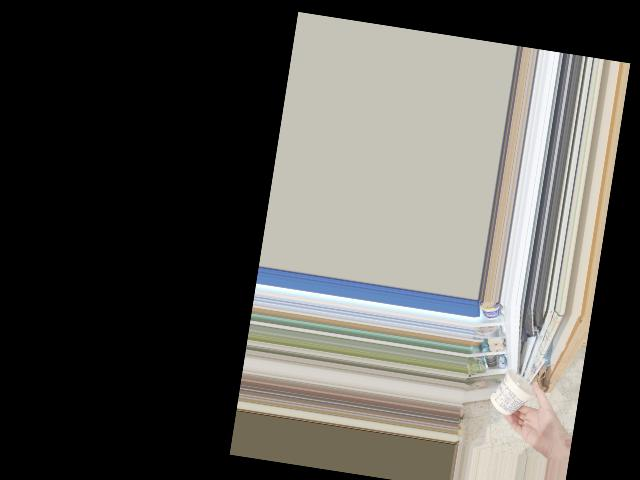cotage: (490, 364, 539, 413)
